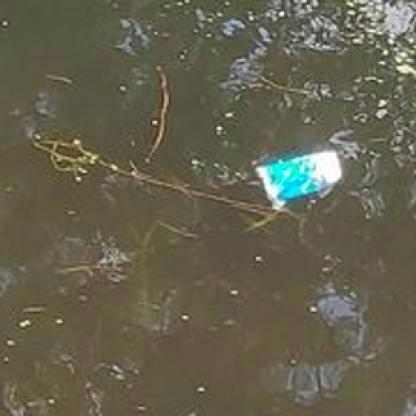Trash: (252, 146, 345, 210)
